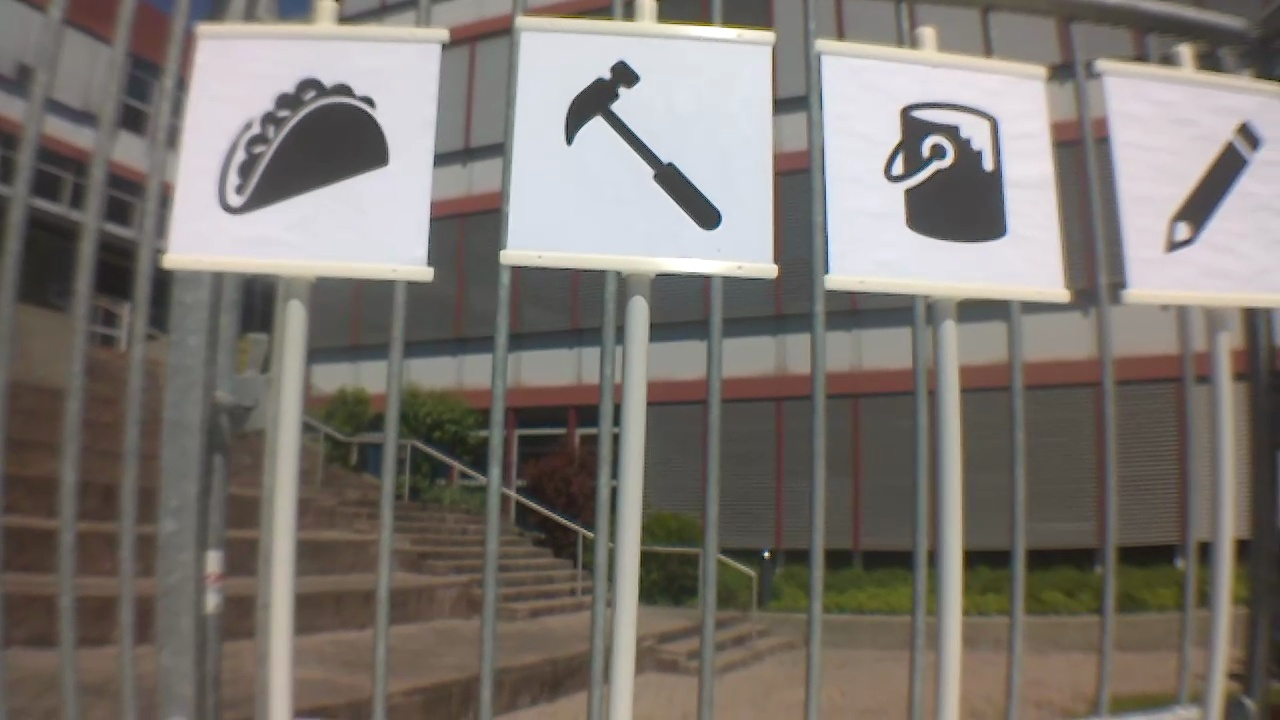bucket: (877, 94, 1011, 252)
hammer: (554, 52, 731, 229)
pencil: (1160, 118, 1280, 256)
taco: (206, 73, 400, 218)
